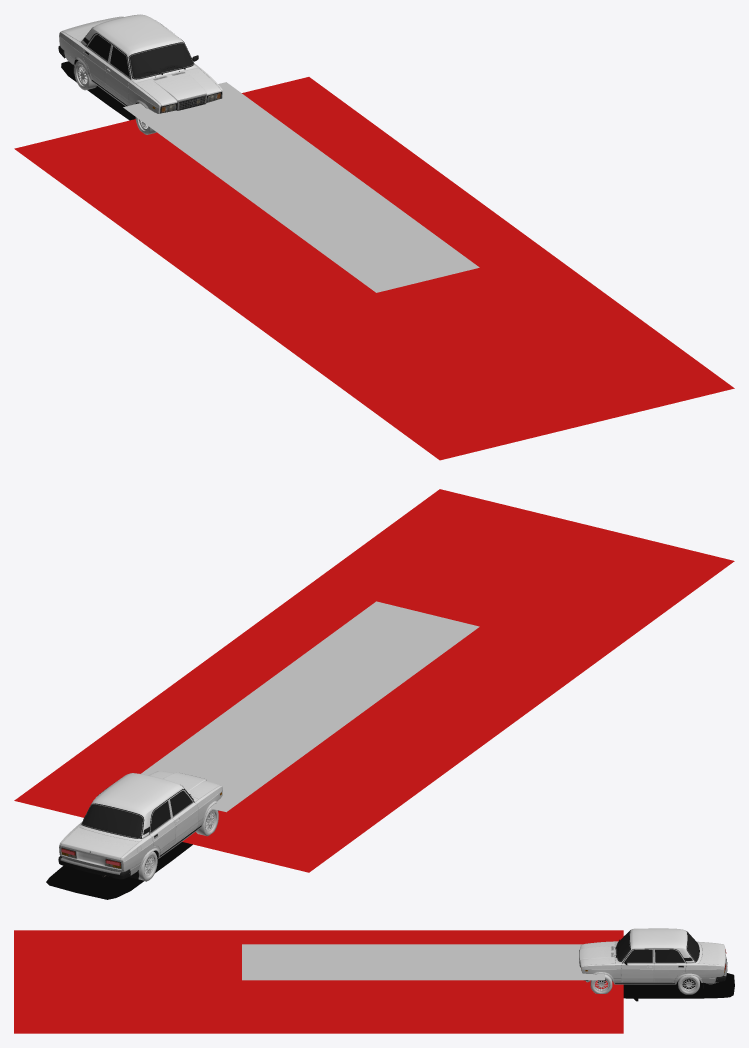
Rendered from car21.fbx.
3 renders of one model, top to bottom at view 1: azimuth 30°, elevation 25°; view 2: azimuth 150°, elevation 25°; view 3: azimuth 270°, elevation 25°, orthographic. The views are drawn at different scales.
Visible parts, largest first — view 1: light_ground, far_lights, lada_2107; view 2: light_ground, far_lights, lada_2107, shadow_car; view 3: light_ground, far_lights, lada_2107, shadow_car, decalSide, wheel_RL, wheel_FL.
Part boxes in pixels (x1=…): light_ground: x1=14, y1=77, x2=734, y2=460; far_lights: x1=123, y1=82, x2=479, y2=292; lada_2107: x1=58, y1=14, x2=222, y2=113; light_ground: x1=14, y1=489, x2=734, y2=872; far_lights: x1=141, y1=601, x2=479, y2=812; lada_2107: x1=58, y1=771, x2=222, y2=879; shadow_car: x1=46, y1=842, x2=192, y2=899; light_ground: x1=14, y1=930, x2=623, y2=1033; far_lights: x1=242, y1=944, x2=604, y2=980; lada_2107: x1=579, y1=928, x2=727, y2=988; shadow_car: x1=623, y1=973, x2=734, y2=1001; decalSide: x1=621, y1=965, x2=653, y2=981; wheel_RL: x1=678, y1=975, x2=699, y2=994; wheel_FL: x1=590, y1=974, x2=612, y2=993.
Bounding box in the file's own units: 46.54 × 10.06 × 138.
